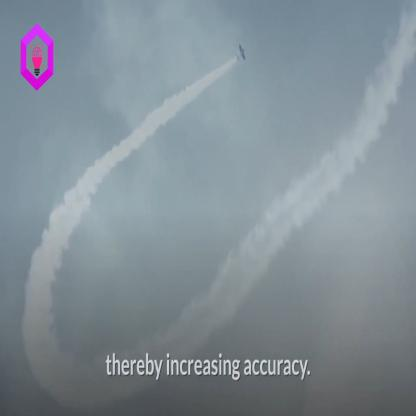plane: (234, 40, 252, 69)
